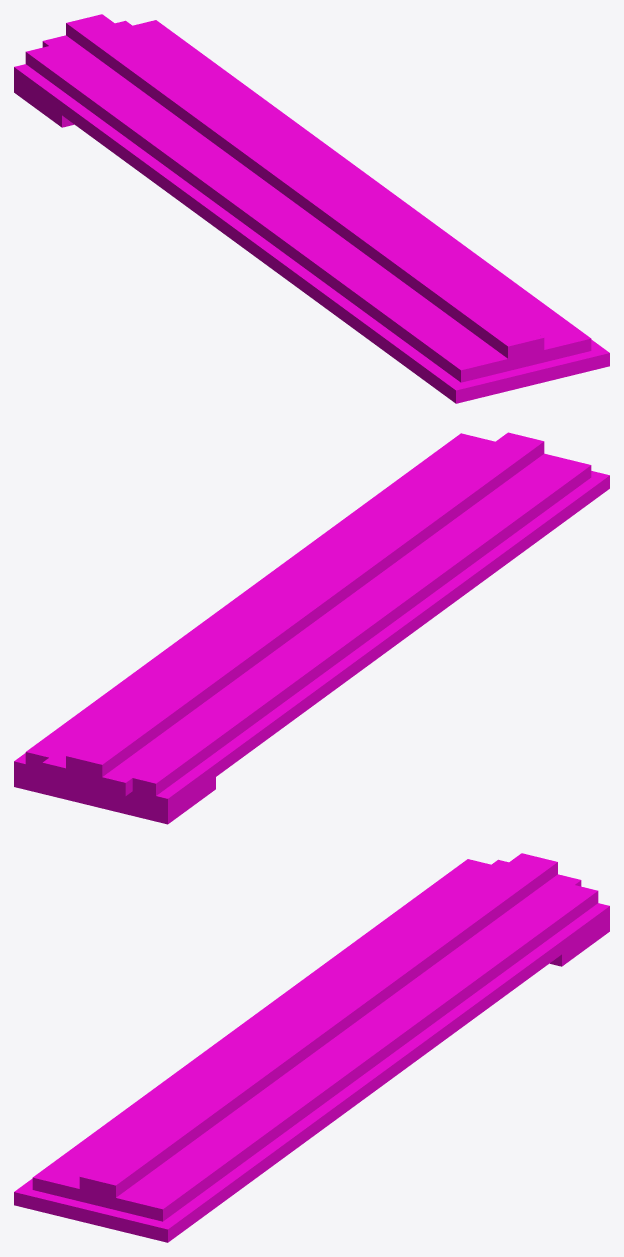
File: speed_bump.glb
3 views of the same model, one above another, from view 1: azimuth 30°, elevation 25°; view 2: azimuth 150°, elevation 25°; view 3: azimuth 330°, elevation 25° (orthographic).
Visible parts, largest first — view 1: col_roof_09, col_roof_08, col_roof_02, col_roof_01, col_block_03, col_roof_03, col_roof_04, col_block_02, col_roof_07, col_roof_06, col_block_01, col_roof_05 (+1 smaller); view 2: col_roof_08, col_roof_09, col_roof_03, col_roof_01, col_roof_02, col_roof_04, col_block_02, col_roof_06, col_block_01, col_roof_07, col_block_03; view 3: col_roof_09, col_roof_08, col_roof_07, col_roof_06, col_block_03, col_roof_03, col_roof_04, col_roof_02, col_block_02, col_roof_01, col_block_01, col_roof_05 (+1 smaller).
Boxes of the visible parts, bbox=[...] form: col_roof_09: bbox=[283, 173, 536, 353]; col_roof_08: bbox=[66, 14, 319, 193]; col_roof_02: bbox=[243, 205, 485, 382]; col_roof_01: bbox=[25, 46, 267, 223]; col_block_03: bbox=[279, 258, 609, 403]; col_roof_03: bbox=[42, 20, 341, 200]; col_roof_04: bbox=[262, 180, 559, 359]; col_block_02: bbox=[61, 99, 290, 273]; col_roof_07: bbox=[351, 179, 591, 356]; col_roof_06: bbox=[133, 20, 372, 185]; col_block_01: bbox=[14, 64, 73, 127]; col_roof_05: bbox=[479, 339, 567, 376]; col_roof_08: bbox=[66, 597, 320, 777]; col_roof_09: bbox=[284, 437, 537, 617]; col_roof_03: bbox=[42, 604, 343, 796]; col_roof_01: bbox=[132, 618, 373, 795]; col_roof_02: bbox=[351, 459, 591, 636]; col_roof_04: bbox=[260, 444, 560, 622]; col_block_02: bbox=[204, 601, 433, 776]; col_roof_06: bbox=[25, 592, 266, 768]; col_block_01: bbox=[14, 753, 215, 824]; col_roof_07: bbox=[244, 433, 484, 597]; col_block_03: bbox=[422, 471, 609, 617]; col_roof_09: bbox=[87, 1012, 340, 1192]; col_roof_08: bbox=[304, 853, 557, 1032]; col_roof_07: bbox=[138, 1044, 380, 1221]; col_roof_06: bbox=[356, 885, 598, 1062]; col_block_03: bbox=[14, 1097, 344, 1242]; col_roof_03: bbox=[282, 859, 581, 1039]; col_roof_04: bbox=[64, 1019, 361, 1198]; col_roof_02: bbox=[32, 1018, 274, 1195]; col_block_02: bbox=[333, 938, 561, 1112]; col_roof_01: bbox=[251, 859, 491, 1023]; col_block_01: bbox=[550, 903, 609, 966]; col_roof_05: bbox=[56, 1178, 145, 1215].
Size of the model in its own units: 2.03 by 0.6327 by 10.25.
